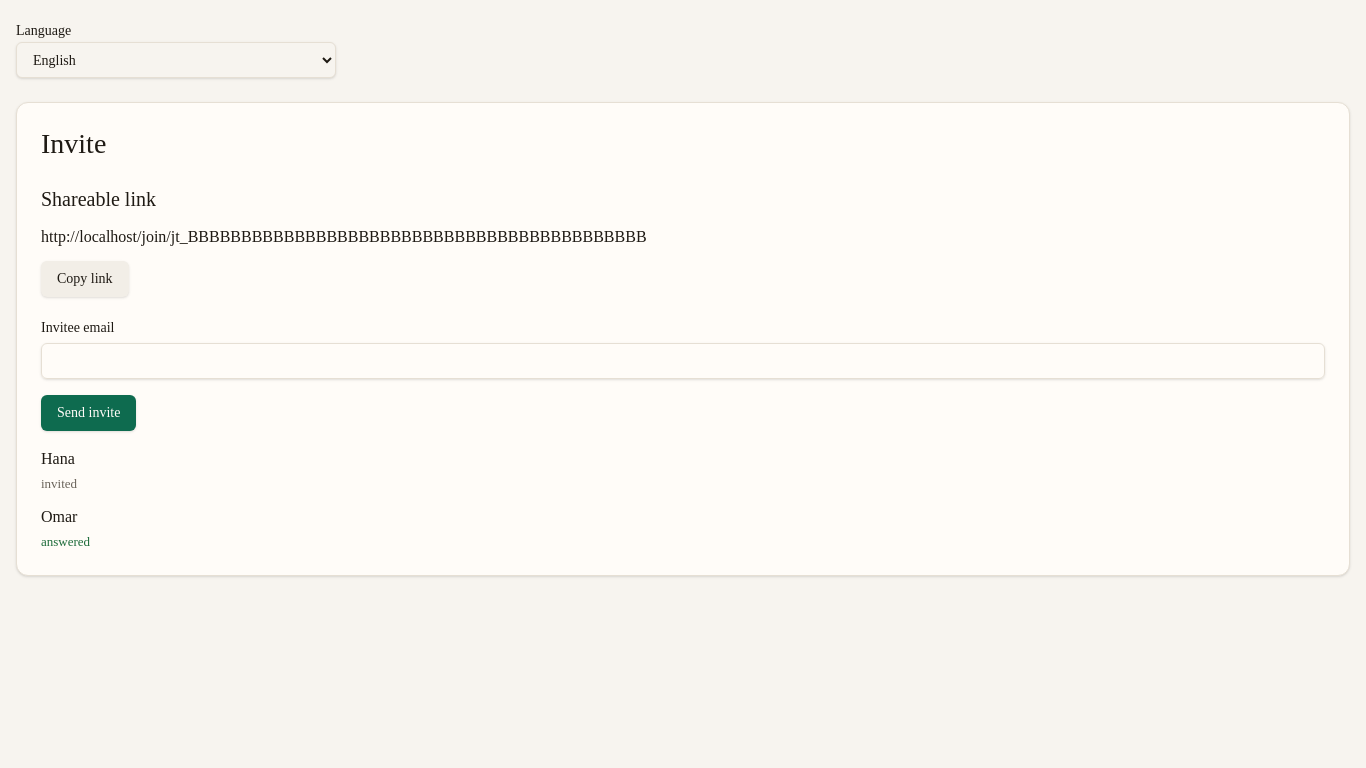
InvitePanel › T-001-94/AC-6 T-001-19/AC-5 T-001-41/AC-6 T-001-55/AC-2 while locked this surface is absent
The width and height of the screenshot is (1366, 768).
Type "hana@example.com" into the field labelled "Invitee email" at (683, 361), box [41,343,1325,379]
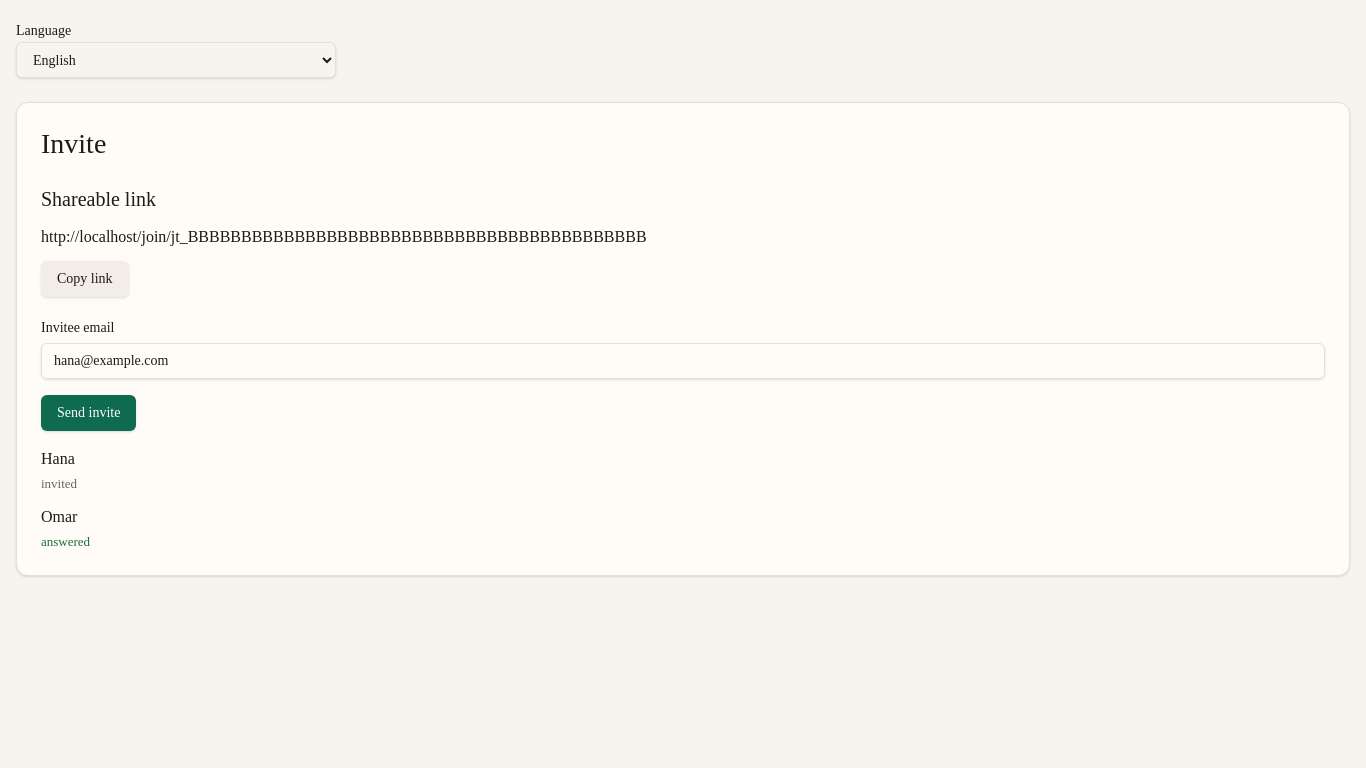
Click the button "Send invite" at (89, 413), box [41,395,136,431]
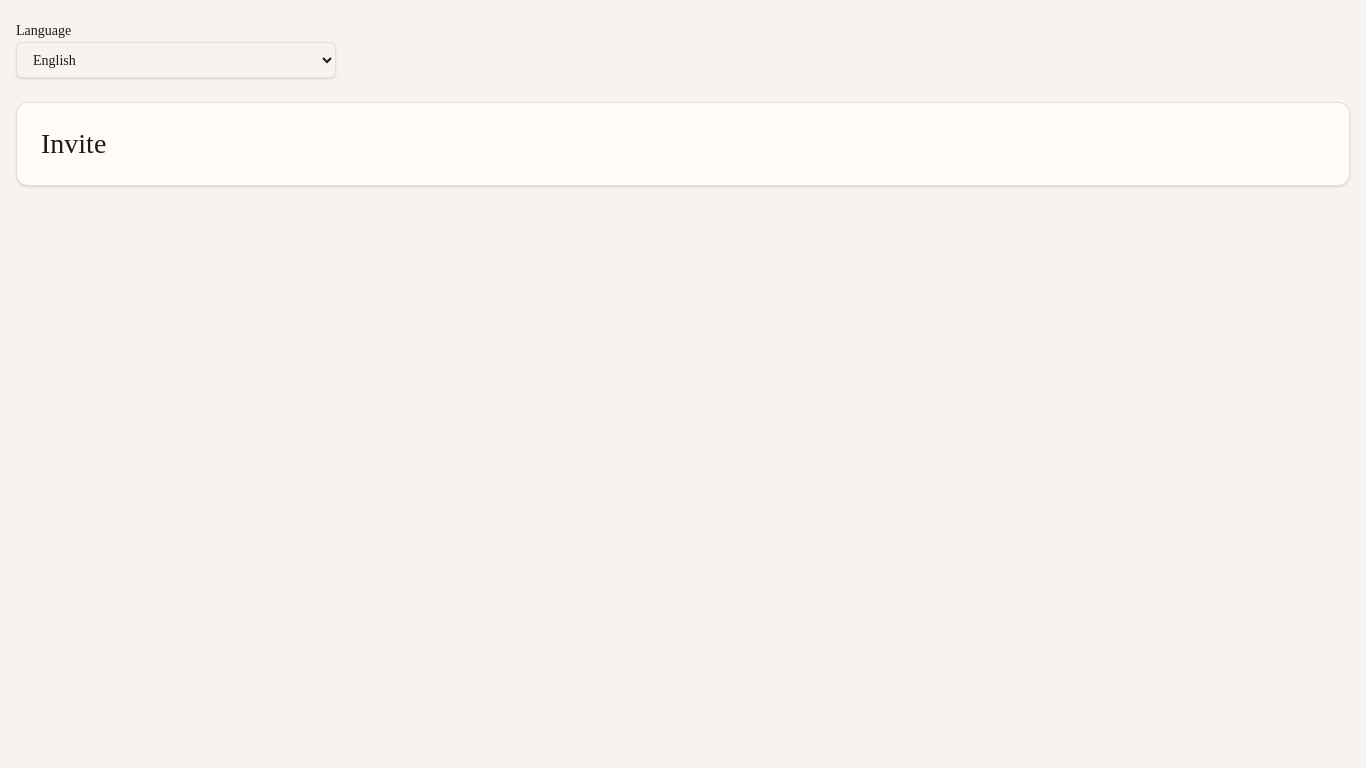
Check: the label labelled "Invitee email" is gone
Check: the button "Copy link" is gone
Check: the button "Send invite" is gone
